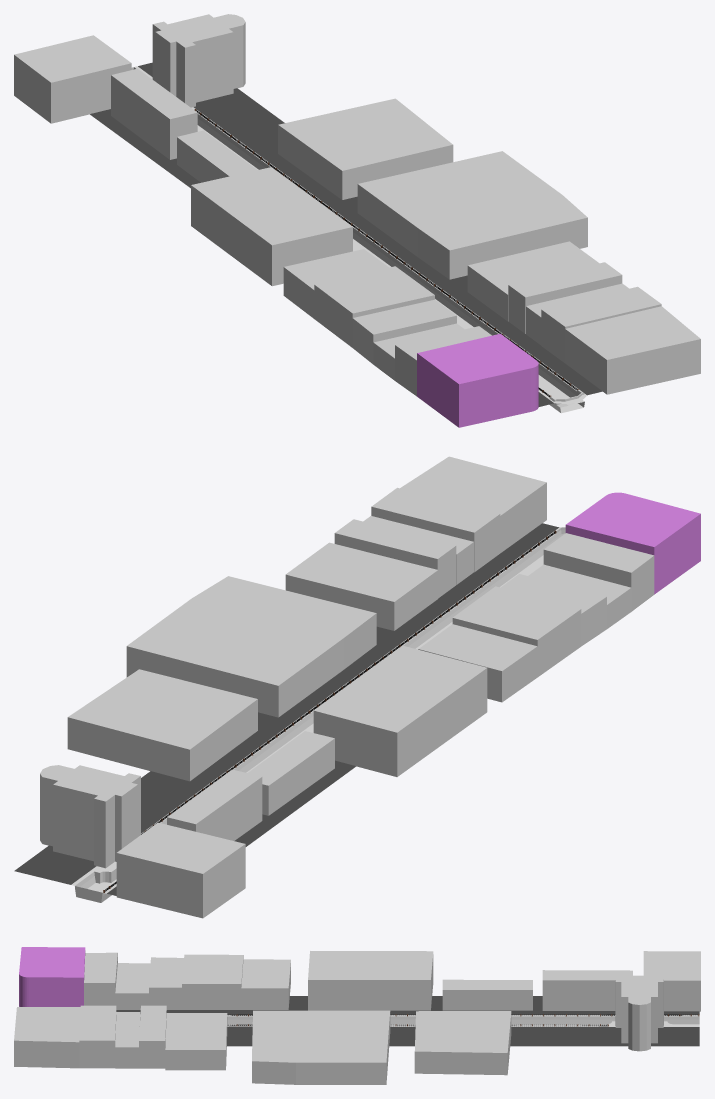
File: LevelFontanka 1.fbx
3 views of the same model, one above another, from view 1: azimuth 30°, elevation 25°; view 2: azimuth 150°, elevation 25°; view 3: azimuth 270°, elevation 25° (orthographic). The views are drawn at different scales.
Parts seen in each view (by area): view 1: Building.014, Building.006, Building.015, road, Zinger, Building.010, SNK, Building.009, Building.004, Chanel_orig, Building.008, Building.013 (+9 smaller); view 2: Building.014, Building.006, Building.015, road, Building.009, SNK, Building.013, Zinger, Building.010, Building.004, Chanel_orig, Building.011 (+9 smaller); view 3: Building.014, Building.006, Building.015, road, Building.010, Zinger, Building.013, Building.004, SNK, Building.008, Building.007, Building.009 (+9 smaller).
Boxes of the visible parts, <box> form: Building.014: <box>357,151,587,279</box>; Building.006: <box>191,167,352,286</box>; Building.015: <box>278,98,453,199</box>; road: <box>90,62,602,406</box>; Zinger: <box>417,333,538,427</box>; Building.010: <box>565,306,700,394</box>; SNK: <box>152,14,245,107</box>; Building.009: <box>14,35,131,123</box>; Building.004: <box>314,266,434,347</box>; Chanel_orig: <box>131,66,586,413</box>; Building.008: <box>111,68,197,159</box>; Building.013: <box>467,241,599,321</box>; Building.014: <box>126,576,376,717</box>; Building.006: <box>313,645,487,776</box>; Building.015: <box>67,669,257,781</box>; road: <box>14,523,558,895</box>; Building.009: <box>116,822,245,918</box>; SNK: <box>40,765,140,868</box>; Building.013: <box>285,542,438,630</box>; Zinger: <box>565,492,700,594</box>; Building.010: <box>400,456,546,552</box>; Building.004: <box>452,586,581,676</box>; Chanel_orig: <box>71,527,565,902</box>; Building.011: <box>371,487,500,572</box>; Building.014: <box>252,1010,390,1084</box>; Building.006: <box>308,951,433,1010</box>; Building.015: <box>414,1011,511,1075</box>; road: <box>116,996,699,1046</box>; Building.010: <box>14,1007,80,1068</box>; Zinger: <box>19,947,85,1006</box>; Building.013: <box>165,1013,227,1070</box>; Building.004: <box>182,954,243,1009</box>; SNK: <box>615,975,663,1051</box>; Building.008: <box>542,970,632,1010</box>; Building.007: <box>442,979,532,1010</box>; Building.009: <box>643,951,700,1011</box>.
Bounding box in the file's own units: 44605 × 10634 × 123318.
